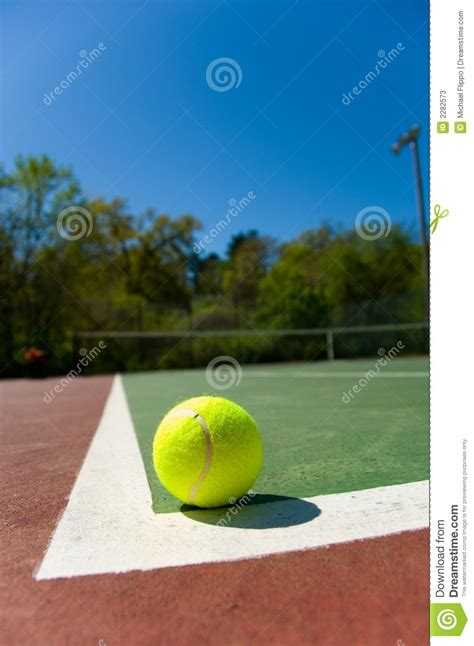tennis_ball: (152, 395, 265, 507)
